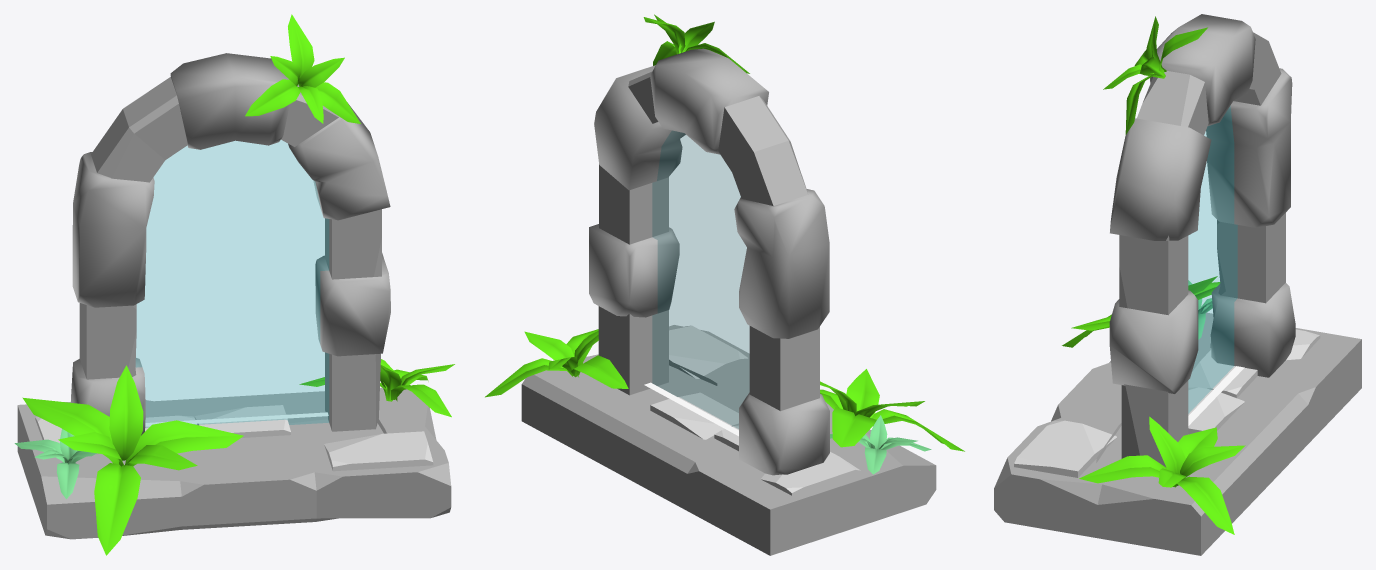
The model's file is portal.glb.
The picture shows the model from 3 angles, left to right: view 1: azimuth 30°, elevation 25°; view 2: azimuth 150°, elevation 25°; view 3: azimuth 270°, elevation 25°; orthographic projection. The views are drawn at different scales.
Visible parts, largest first — view 1: Plane.003, Plane.002, Plane.001, Plane, Plane.006, Plane.009, Cube, Cube.002, Plane.007, Plane.010, Plane.011; view 2: Plane.001, Plane.002, Plane.003, Plane, Plane.006, Plane.007, Cube, Cube.002, Cube.013, Plane.009, Plane.010, Plane.011; view 3: Plane.001, Plane.002, Plane, Plane.003, Plane.007, Cube, Plane.009, Cube.001, Cube.002, Plane.006, Cube.013, Plane.011.
Boxes of the visible parts, <box> form: Plane.003: <box>136,140,328,427</box>; Plane.002: <box>17,387,451,539</box>; Plane.001: <box>71,53,390,435</box>; Plane: <box>79,77,381,431</box>; Plane.006: <box>22,365,243,555</box>; Plane.009: <box>245,14,360,123</box>; Cube: <box>324,431,433,471</box>; Cube.002: <box>194,405,290,437</box>; Plane.007: <box>299,359,454,417</box>; Plane.010: <box>14,429,96,499</box>; Plane.011: <box>145,412,328,426</box>; Plane.001: <box>589,48,829,475</box>; Plane.002: <box>521,325,936,555</box>; Plane.003: <box>652,131,749,428</box>; Plane: <box>598,71,819,411</box>; Plane.006: <box>820,369,964,451</box>; Plane.007: <box>485,329,628,397</box>; Cube: <box>669,325,748,378</box>; Cube.002: <box>650,392,738,439</box>; Cube.013: <box>761,452,860,495</box>; Plane.009: <box>643,14,749,73</box>; Plane.010: <box>830,415,931,474</box>; Plane.011: <box>644,382,738,436</box>; Plane.001: <box>1109,14,1295,393</box>; Plane.002: <box>994,312,1361,555</box>; Plane: <box>1119,32,1285,467</box>; Plane.003: <box>1188,106,1237,412</box>; Plane.007: <box>1079,416,1245,534</box>; Cube: <box>1014,420,1116,477</box>; Plane.009: <box>1103,16,1207,134</box>; Cube.001: <box>1188,349,1257,398</box>; Cube.002: <box>1188,387,1244,434</box>; Plane.006: <box>1062,276,1220,347</box>; Cube.013: <box>1210,329,1320,360</box>; Plane.011: <box>1188,366,1244,425</box>.
Size of the model in its own units: 4.9 by 4.95 by 3.55.
